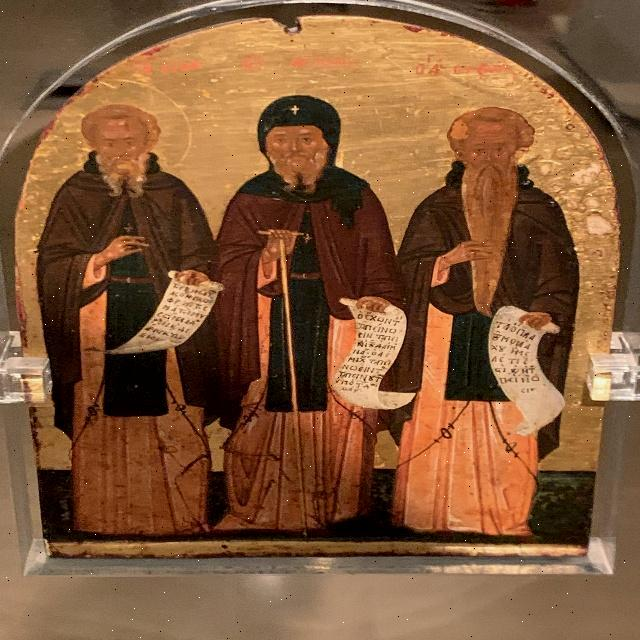aura: (218, 78, 384, 188), (52, 80, 193, 182)
church_father: (52, 82, 582, 546)
saint: (216, 80, 401, 529), (52, 81, 215, 535), (401, 88, 557, 540)
scepter: (268, 227, 324, 533)
scroll: (102, 272, 218, 353), (493, 303, 560, 430), (338, 299, 410, 408)
